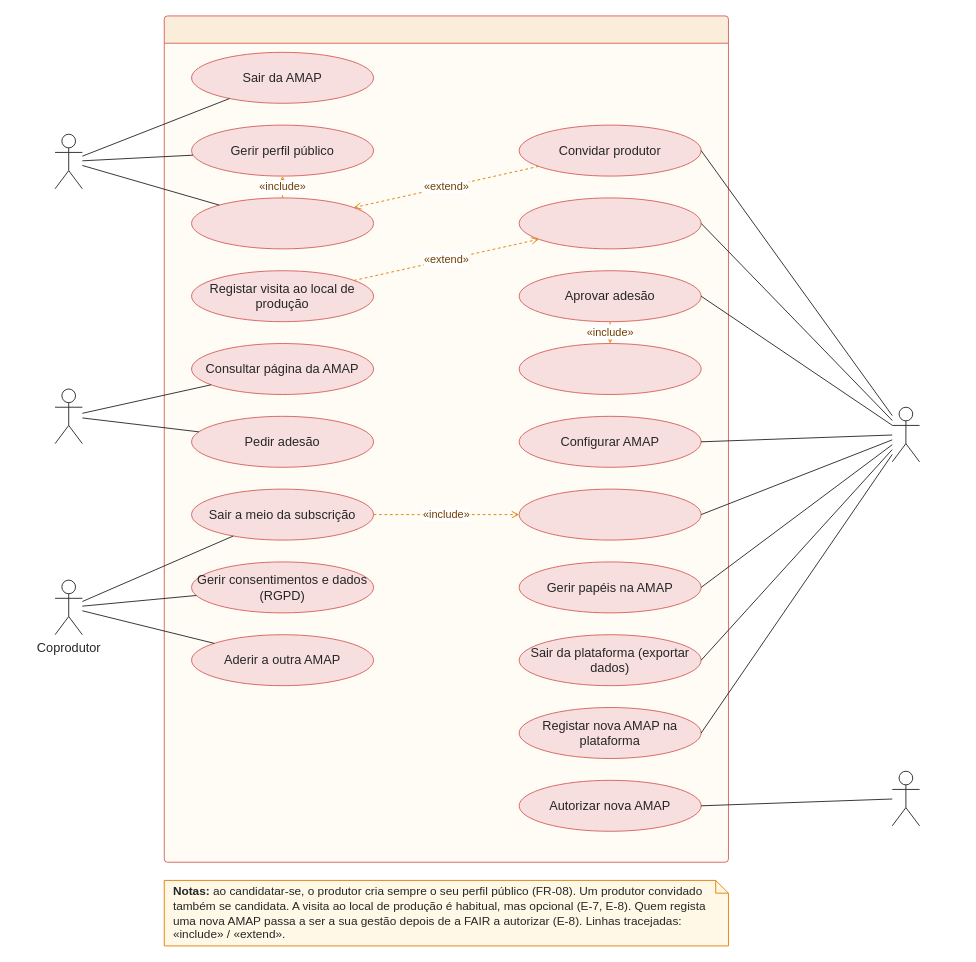
This 976x962 diagram has some shape labels left out. Here are the shapes that lost their labels. From the top down, the box of each, then its label:
(54, 133, 82, 189): Produtor
(191, 197, 374, 249): Candidatar-se a uma AMAP
(518, 197, 701, 249): Aprovar candidatura de produtor
(518, 343, 701, 394): Gerir lista de espera
(54, 388, 82, 444): Interessado (futuro coprodutor)
(891, 406, 920, 462): Gestão da AMAP
(163, 15, 728, 862): FAIR-AMAP
(518, 488, 701, 540): Aceitar desistência
(891, 770, 920, 826): Administrador FAIR
